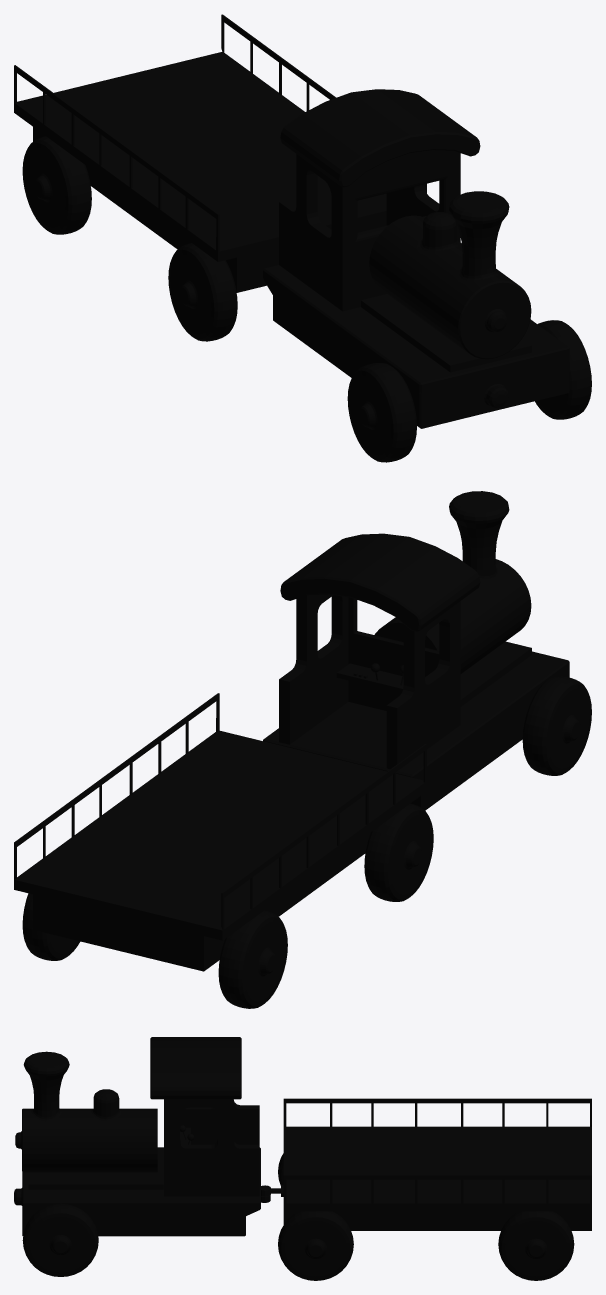
File: CatTrain.fbx
3 views of the same model, one above another, from view 1: azimuth 30°, elevation 25°; view 2: azimuth 150°, elevation 25°; view 3: azimuth 270°, elevation 25° (orthographic). The views are drawn at different scales.
Visible parts, largest first — view 1: Cube.008; view 2: Cube.008; view 3: Cube.008.
Part boxes in pixels (bbox=[...]): Cube.008: bbox=[14, 14, 591, 462]; Cube.008: bbox=[14, 491, 591, 1008]; Cube.008: bbox=[14, 1037, 591, 1280].
Size of the model in its own units: 233 by 245 by 660.
Materials: 1 (1 with a texture image).
